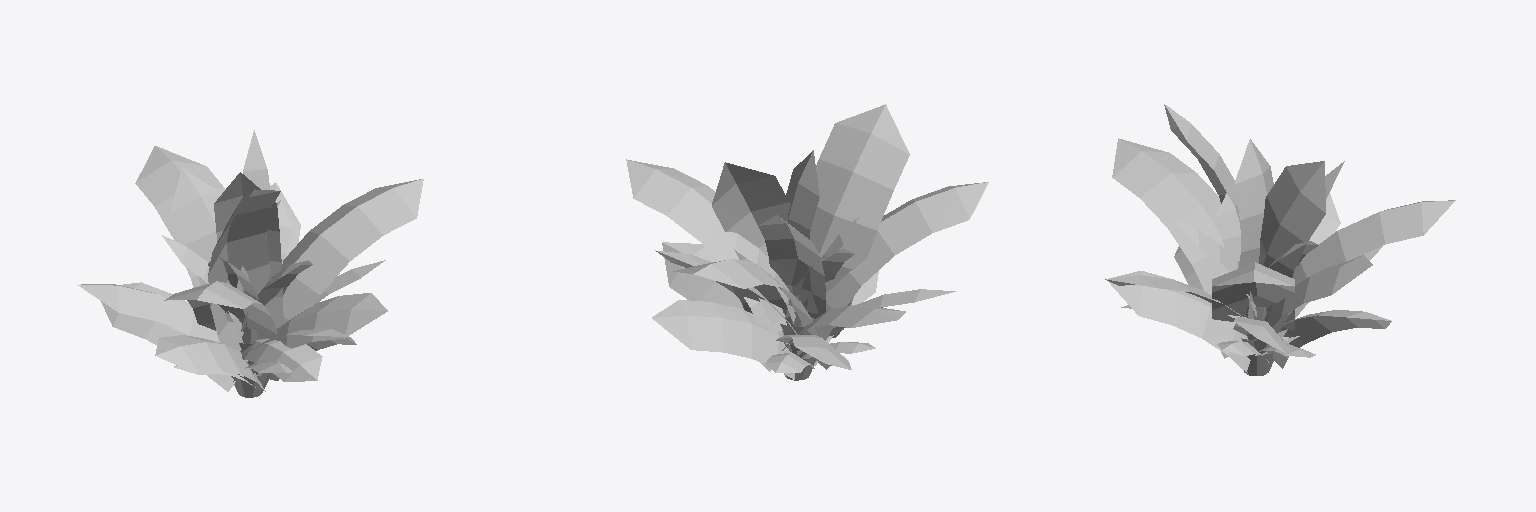
File: shrubLeafs.obj
3 views of the same model, side by side, from view 1: azimuth 30°, elevation 25°; view 2: azimuth 150°, elevation 25°; view 3: azimuth 270°, elevation 25° (orthographic).
Parts seen in each view (by area): view 1: polySurface339.001; view 2: polySurface339.001; view 3: polySurface339.001.
Boxes of the visible parts, <box> form: polySurface339.001: <box>78,130,423,397</box>; polySurface339.001: <box>626,104,988,380</box>; polySurface339.001: <box>1105,104,1455,375</box>.
Size of the model in its own units: 17.57 by 13.41 by 17.29.